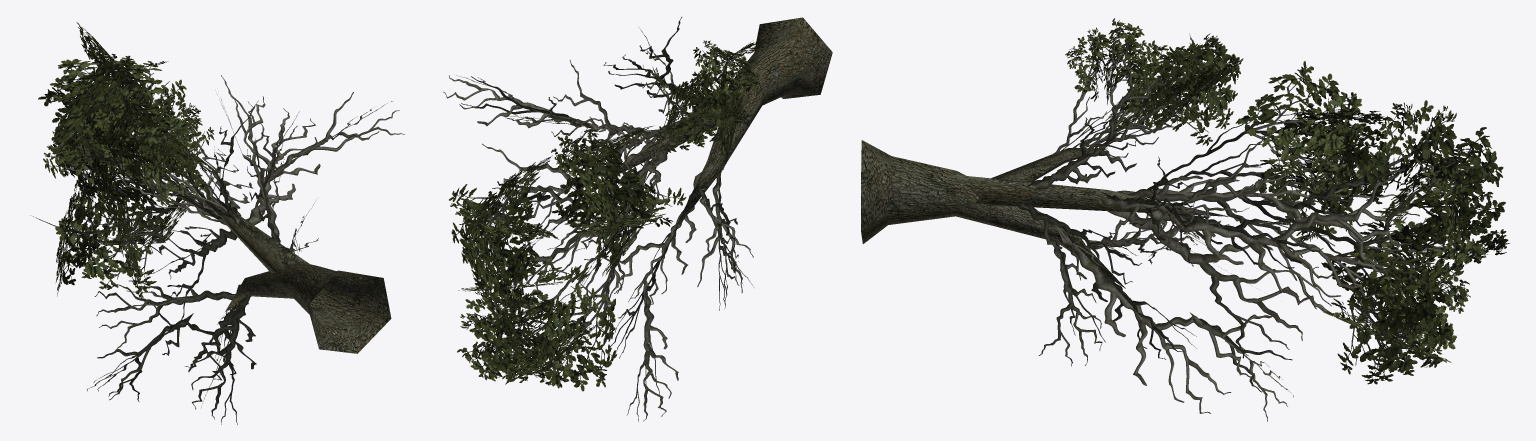
File: MEP_Oak_05.fbx
The picture shows the model from 3 angles, left to right: view 1: azimuth 30°, elevation 25°; view 2: azimuth 150°, elevation 25°; view 3: azimuth 270°, elevation 25°; orthographic projection. The views are drawn at different scales.
Visible parts, largest first — view 1: MEP_Oak_05, MEP_Oak_Trunk_05; view 2: MEP_Oak_05, MEP_Oak_Trunk_05; view 3: MEP_Oak_05, MEP_Oak_Trunk_05.
Boxes of the visible parts, box(x1,y1,x2,y2) form: MEP_Oak_05: box(30, 22, 404, 424); MEP_Oak_Trunk_05: box(205, 191, 391, 353); MEP_Oak_05: box(443, 17, 765, 421); MEP_Oak_Trunk_05: box(608, 17, 832, 233); MEP_Oak_05: box(1010, 18, 1509, 421); MEP_Oak_Trunk_05: box(861, 140, 1229, 288).
Bounding box in the file's own units: 12.43 × 13.17 × 20.27.
